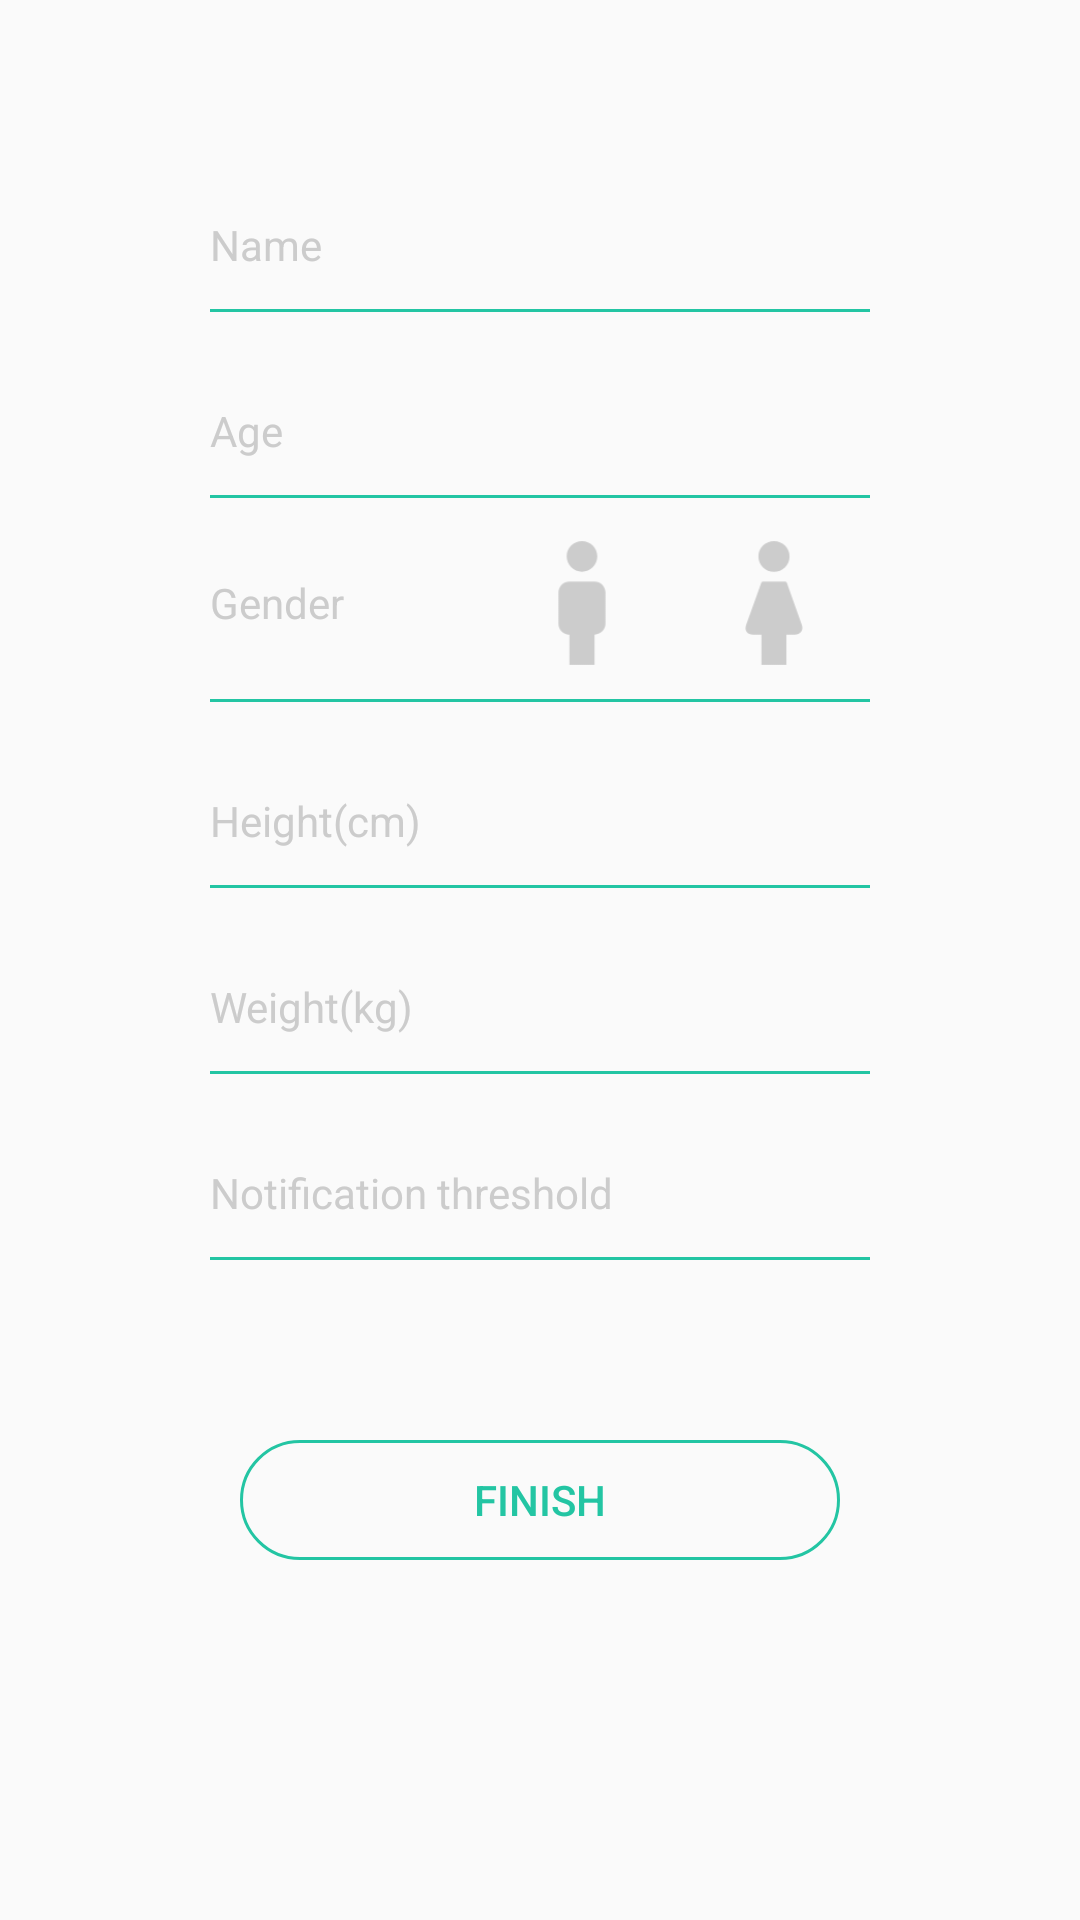

Icon click points for this 1080 x 1920 phone screenshot, format (x=x, y=y):
man: (x=582, y=603)
woman: (x=774, y=603)
